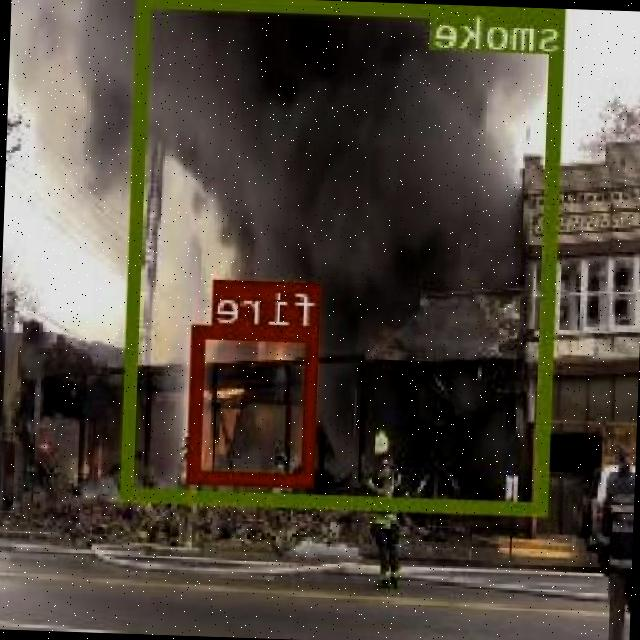fire: (189, 322, 322, 484)
smoke: (124, 0, 567, 514)
